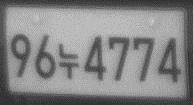4: (157, 36, 182, 85), (83, 36, 107, 80)
6: (33, 34, 56, 79)
7: (107, 35, 131, 82), (132, 37, 155, 82)
9: (10, 33, 32, 78)
누: (56, 41, 79, 81)
